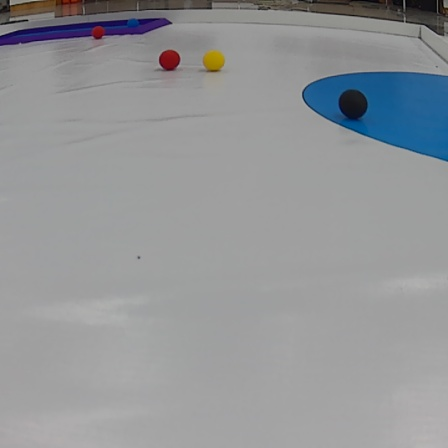blue: (126, 15, 144, 34)
blue_aim: (3, 15, 186, 45)
blue_base: (288, 69, 448, 165)
red: (158, 50, 181, 71), (90, 26, 106, 39)
yellow: (204, 50, 227, 74)
